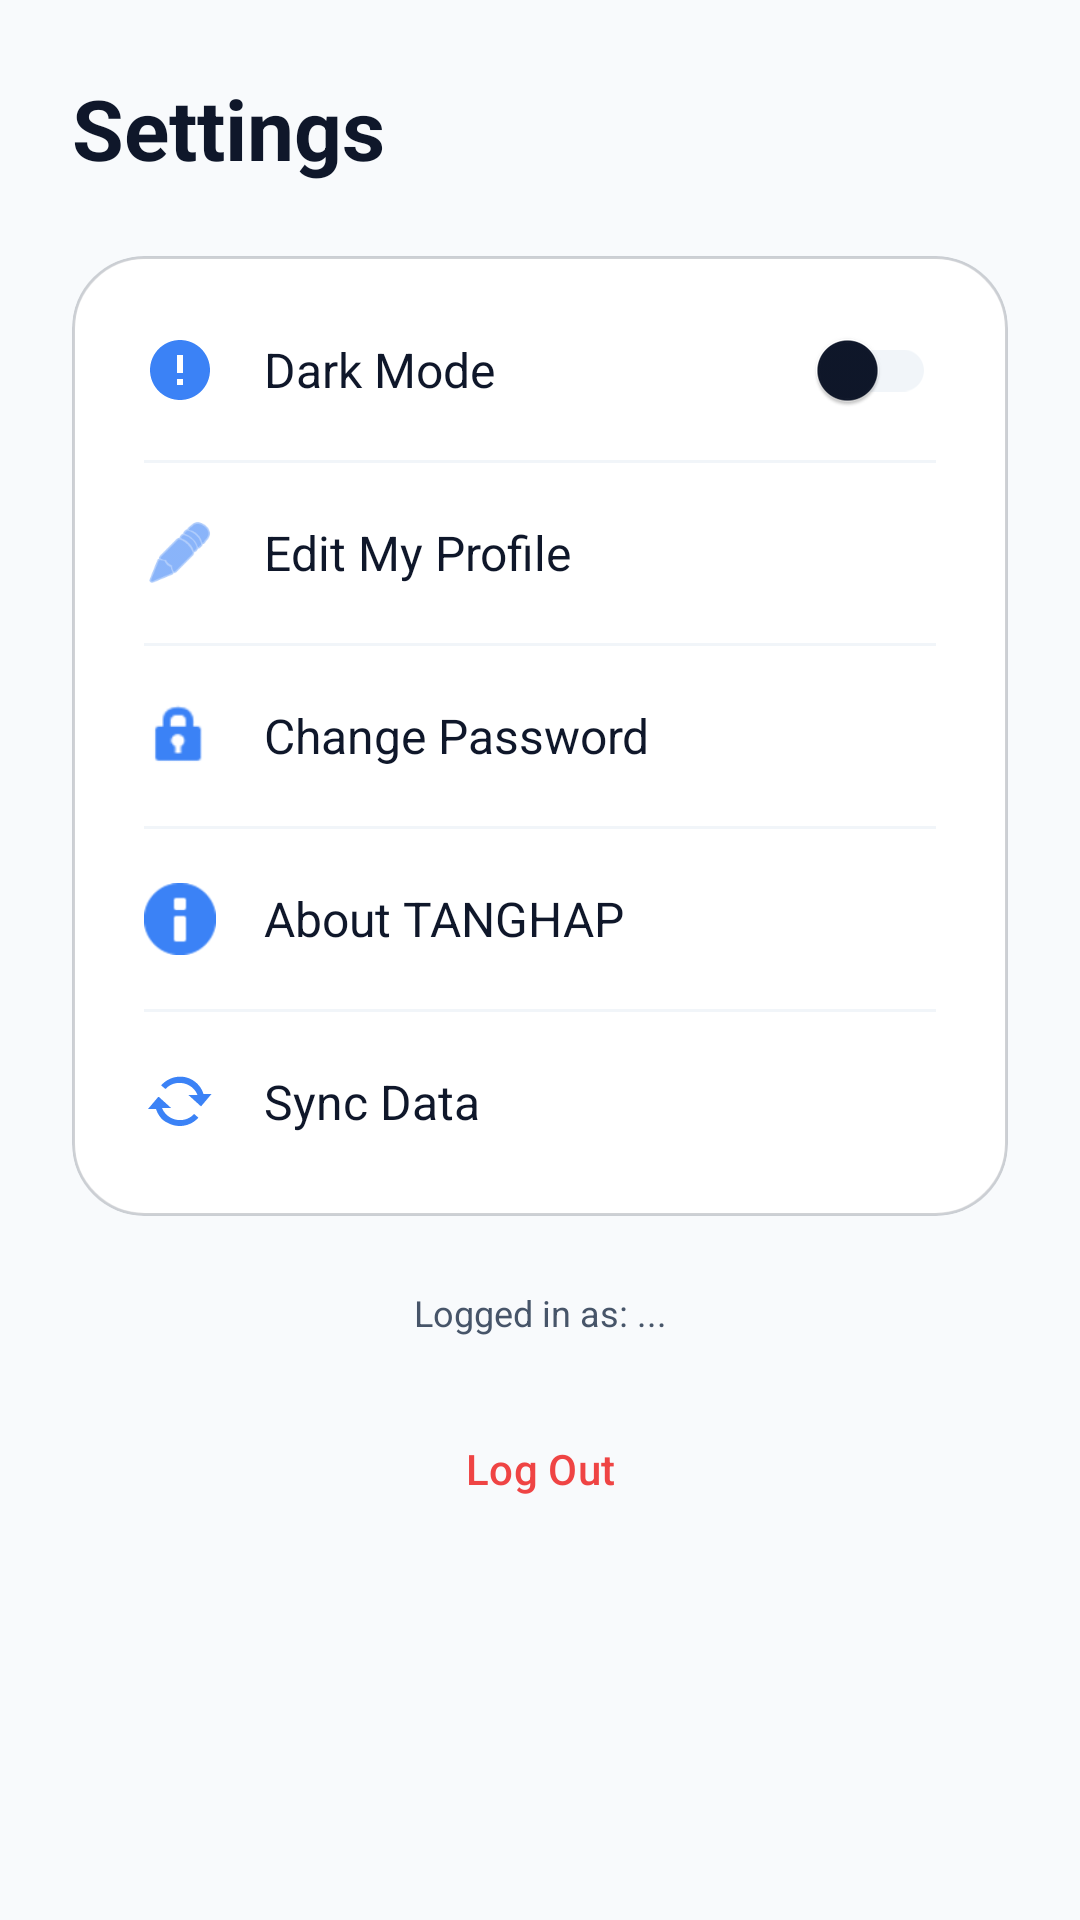

Screen size 1080 x 1920. Icon name, then its box in pixels as (x1, y1, x2, y2):
alerts: (150, 340, 210, 400)
info: (144, 883, 216, 955)
lock idle: (155, 706, 202, 761)
